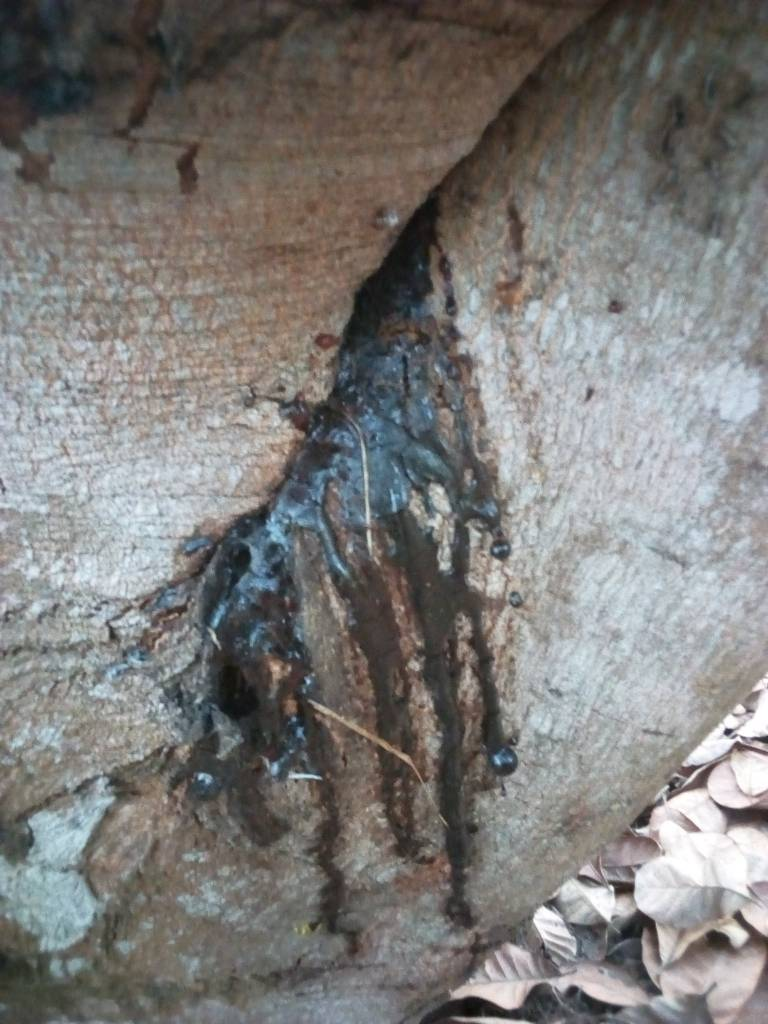Gommose: (205, 288, 513, 932)
